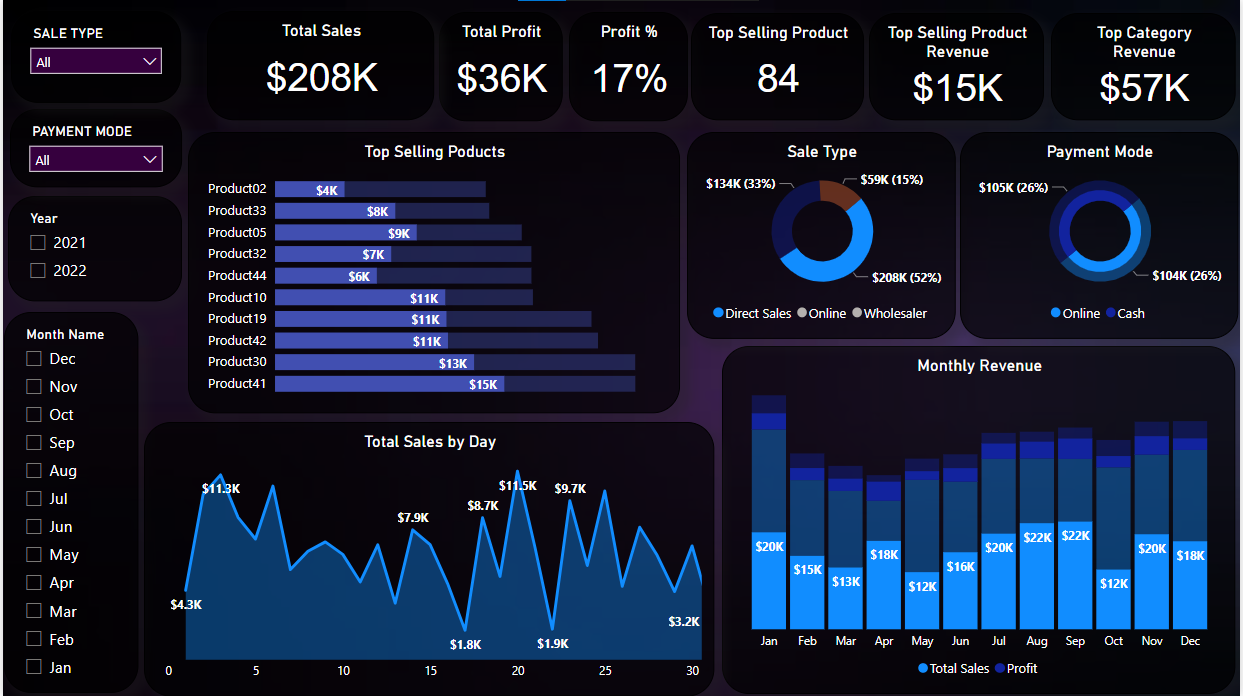

The dashboard page shown, as its layout file describes it:
{"tool":"powerbi","page":{"name":"Dashboard","canvas":[1280,720],"ordinal":0},"visuals":[{"type":"slicer","fields":{"Values":["InputData.Year"]},"box":[5,202.5,180,108.8],"z":0},{"type":"slicer","fields":{"Values":["InputData.Month Name"]},"box":[1.2,322.5,138.8,393.8],"z":1000},{"type":"slicer","fields":{"Values":["InputData.PAYMENT MODE"]},"box":[7.5,112.5,177.5,81.2],"z":2000},{"type":"slicer","fields":{"Values":["InputData.SALE TYPE"]},"box":[8.5,11.2,176.2,95],"z":3000},{"type":"card","title":"Total Profit","fields":{"Values":["Sum(InputData.Total Profit)"]},"box":[451.2,12.5,127.5,112.5],"z":4000},{"type":"card","title":"Profit %","fields":{"Values":["InputData.Profit %"]},"box":[585,12.5,122.5,112.5],"z":5000},{"type":"card","title":"Total Sales","fields":{"Values":["Sum(InputData.Total Sales)"]},"box":[211.2,11.2,235,112.5],"z":6000},{"type":"card","title":"Top Selling Product","fields":{"Values":["Sum(InputData.QUANTITY)"]},"box":[711.2,13.8,178.8,111.2],"z":7000},{"type":"columnChart","title":"Monthly Revenue","fields":{"Category":["InputData.Month Name"],"Y":["Sum(InputData.Total Sales)","InputData.Profit"]},"box":[743.8,357.5,531.2,360],"z":8000},{"type":"card","title":"Top Selling Product Revenue","fields":{"Values":["Sum(InputData.Total Sales)"]},"box":[896.2,13.8,181.2,111.2],"z":9000},{"type":"barChart","title":"Top Selling Poducts","fields":{"Category":["InputData.MasterData.PRODUCT"],"Y":["Sum(InputData.Total Sales)"]},"box":[191.2,136.2,508.8,291.2],"z":10000},{"type":"card","title":"Top Category Revenue","fields":{"Values":["Sum(InputData.Total Sales)"]},"box":[1083.8,13.8,191.2,111.2],"z":11000},{"type":"donutChart","title":"Sale Type","fields":{"Y":["Sum(InputData.Total Sales)"],"Category":["InputData.SALE TYPE"]},"box":[707.5,136.2,277.5,213.8],"z":12000},{"type":"donutChart","title":"Payment Mode","fields":{"Y":["Sum(InputData.Total Sales)"],"Category":["InputData.PAYMENT MODE"]},"box":[990,136.2,287.5,213.8],"z":13000},{"type":"areaChart","fields":{"Category":["InputData.Day"],"Y":["Sum(InputData.Total Sales)"]},"box":[146.2,436.2,590,283.8],"z":14000}]}

Visuals, with their boxes in screenshot pixels (x1, y1, x2, y2), scaled from the page's 1280x720 canvas onto the 1243x696 screenshot:
slicer - InputData.Year: 5,196,180,301
slicer - InputData.Month Name: 1,312,136,692
slicer - InputData.PAYMENT MODE: 7,109,180,187
slicer - InputData.SALE TYPE: 8,11,179,103
"Total Profit" card: 438,12,562,121
"Profit %" card: 568,12,687,121
"Total Sales" card: 205,11,433,120
"Top Selling Product" card: 691,13,864,121
"Monthly Revenue" columnChart: 722,346,1238,694
"Top Selling Product Revenue" card: 870,13,1046,121
"Top Selling Poducts" barChart: 186,132,680,413
"Top Category Revenue" card: 1052,13,1238,121
"Sale Type" donutChart: 687,132,957,338
"Payment Mode" donutChart: 961,132,1241,338
areaChart - InputData.Day x Sum(InputData.Total Sales): 142,422,715,695
